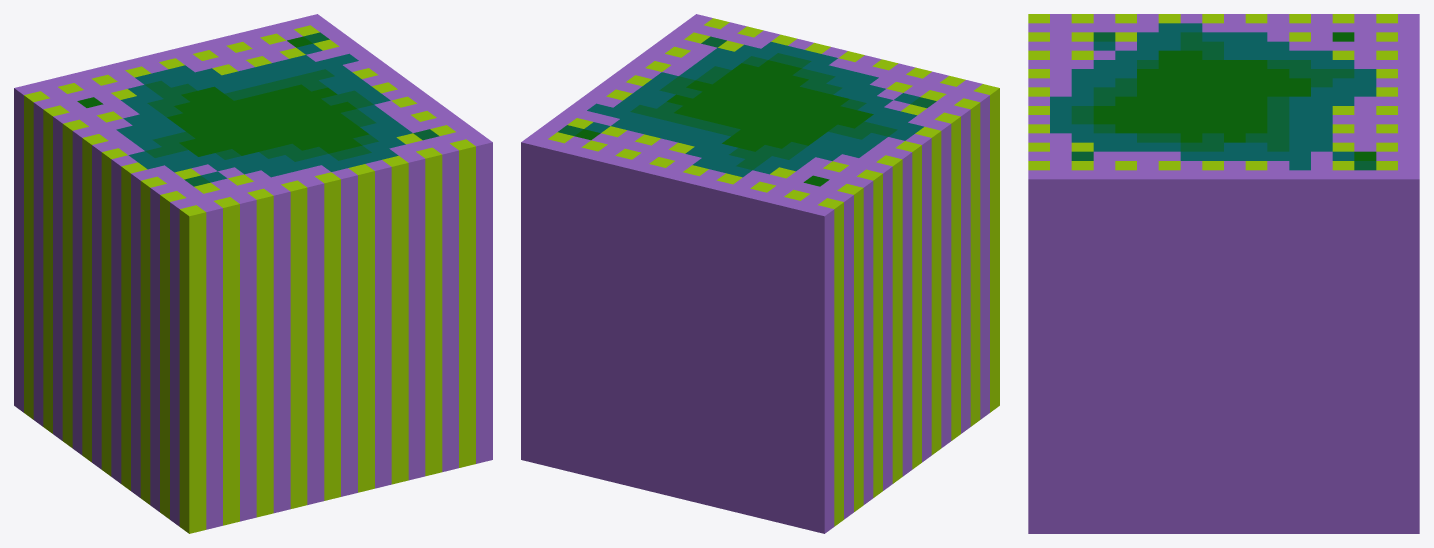
File: agua_x1.obj
3 views of the same model, side by side, from view 1: azimuth 30°, elevation 25°; view 2: azimuth 150°, elevation 25°; view 3: azimuth 270°, elevation 25° (orthographic). The views are drawn at different scales.
Size of the model in its own units: 1.8 by 1.8 by 1.8.
